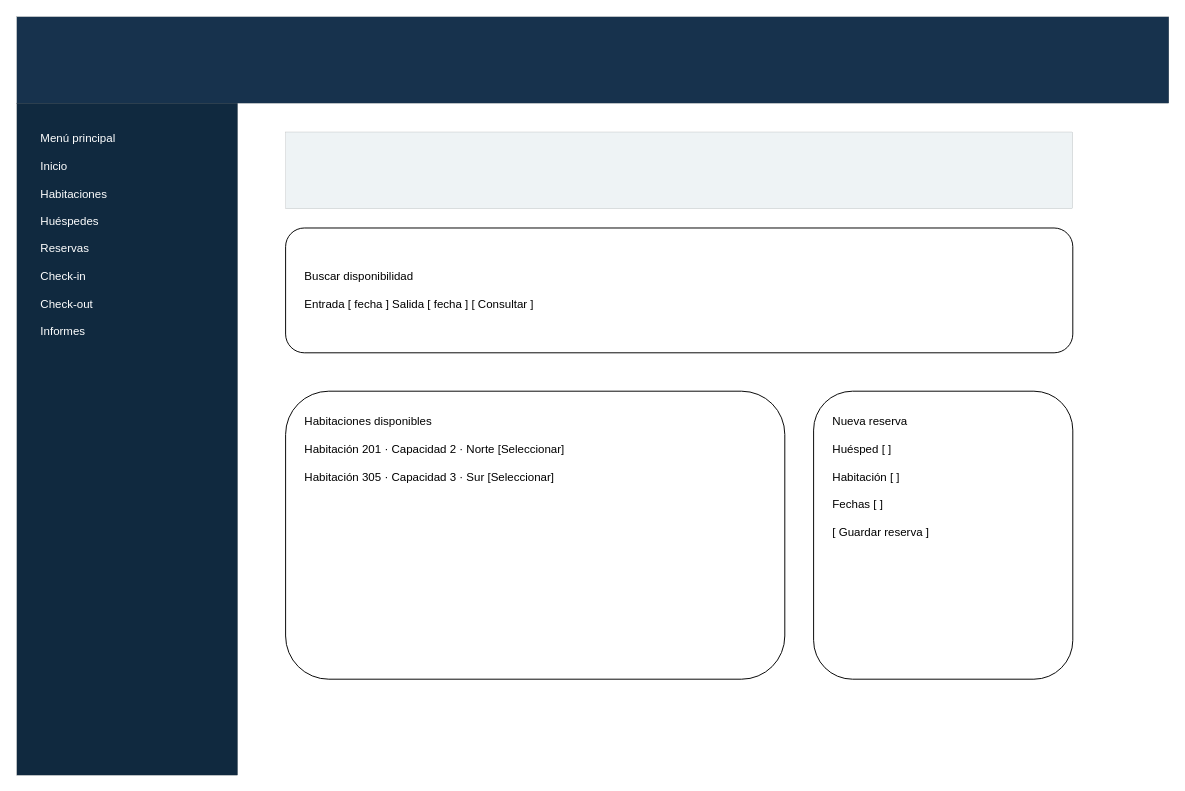
The diagram is 1185 pixels wide and 791 high, and some of its shapes have lost their labels. The centre of each missing label's shape, as x and y in pixels:
"Hotel Duerme Bien" belongs at point 592,59.
"Panel de reservas Consulta disponibilidad y registra una nueva reserva." belongs at point 678,170.
